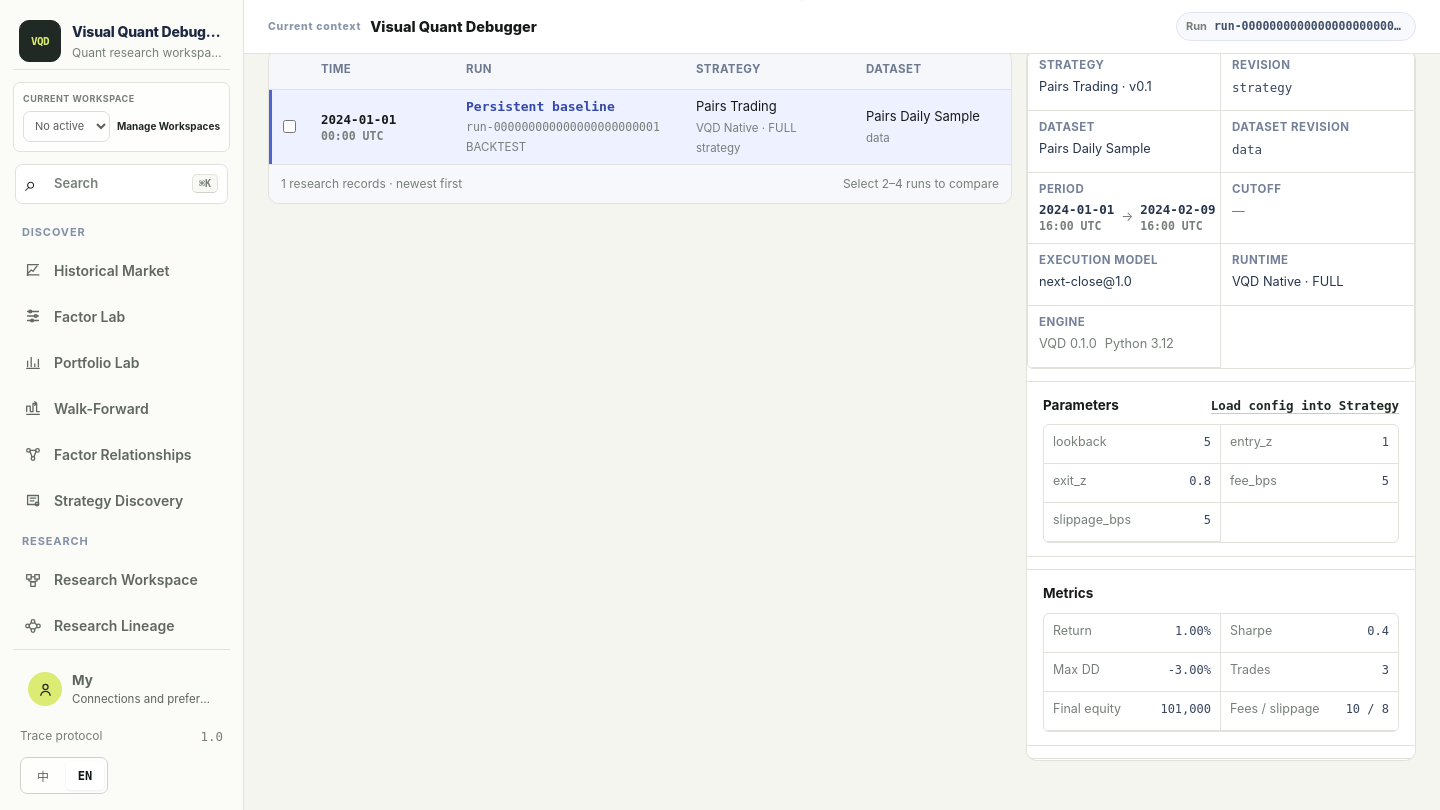
restores a persistent Run Inspector from a deep link after refresh
(page scrolled)
What coordinates should you click on to do the following:
click the button "Load config into Strategy"
I would click on:
 (1305, 406)
Its box is top-left (1211, 395), bottom-right (1399, 416).
(page scrolled)
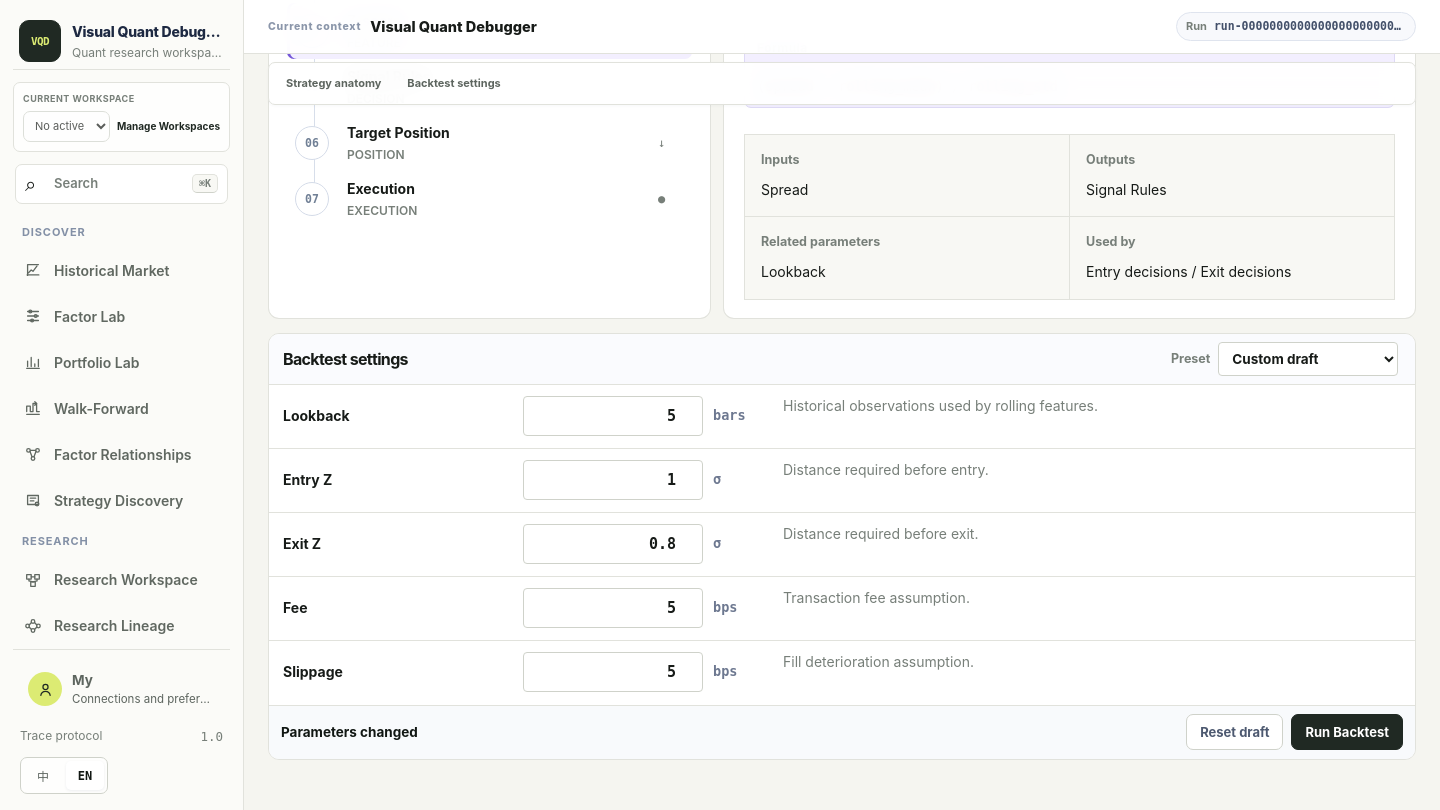
Expected: the number field labelled "Lookback" holds "5", top-left (523, 396), bottom-right (703, 436)
